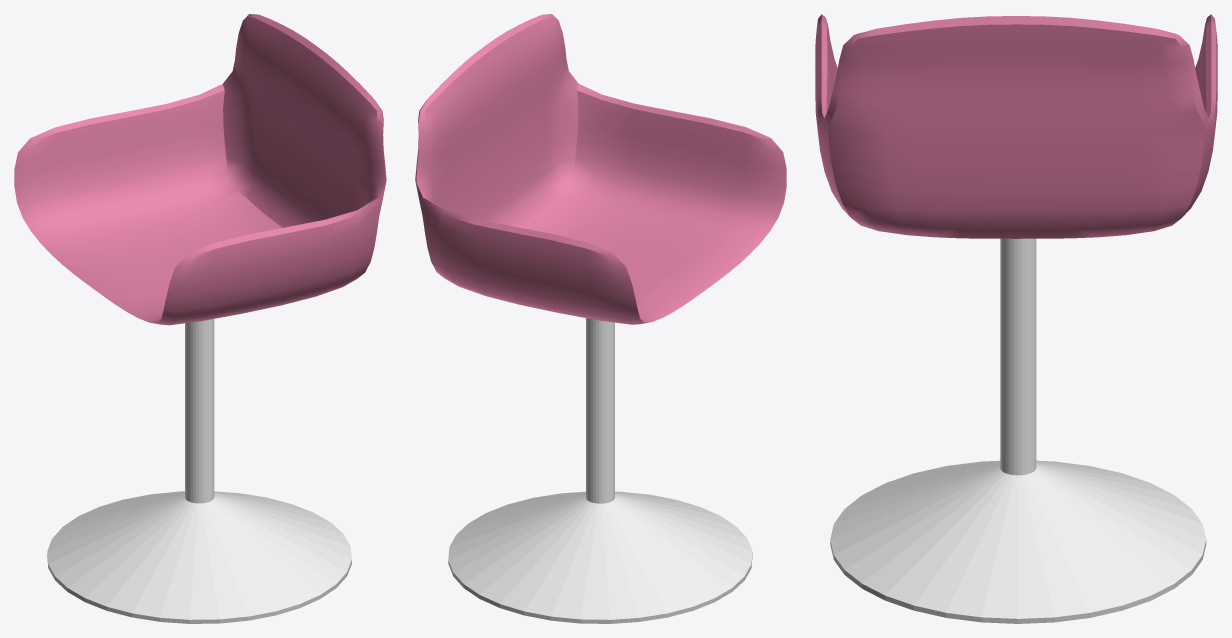
File: SILLA_PELUQUERIA 1.fbx
3 views of the same model, side by side, from view 1: azimuth 30°, elevation 25°; view 2: azimuth 150°, elevation 25°; view 3: azimuth 270°, elevation 25° (orthographic). The views are drawn at different scales.
Visible parts, largest first — view 1: Cube, Circle.002, Circle, Circle.001; view 2: Cube, Circle.002, Circle, Circle.001; view 3: Cube, Circle.002, Circle, Circle.001.
Part boxes in pixels (left/top/right/bottom): Cube: left=14, top=14, right=386, bottom=325; Circle.002: left=47, top=491, right=351, bottom=619; Circle: left=185, top=319, right=214, bottom=503; Circle.001: left=47, top=555, right=351, bottom=623; Cube: left=415, top=14, right=786, bottom=324; Circle.002: left=448, top=491, right=752, bottom=619; Circle: left=586, top=318, right=614, bottom=503; Circle.001: left=448, top=552, right=752, bottom=623; Cube: left=815, top=14, right=1217, bottom=238; Circle.002: left=830, top=460, right=1206, bottom=618; Circle: left=1000, top=238, right=1036, bottom=475; Circle.001: left=830, top=540, right=1206, bottom=623.
Size of the model in its own units: 130 by 229 by 140.
